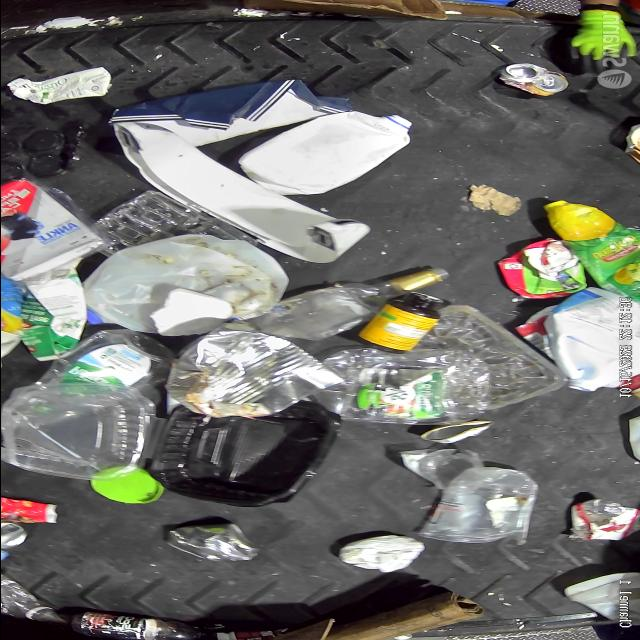can: (166, 330, 344, 418), (166, 522, 262, 564), (566, 497, 640, 539), (498, 64, 568, 98), (419, 420, 494, 444), (1, 518, 29, 550)
milk_jug: (86, 234, 287, 334), (236, 110, 413, 196)
non_white_jug: (541, 200, 640, 302), (543, 288, 640, 392)
plastic_bottle: (72, 612, 214, 640), (0, 577, 64, 622)
